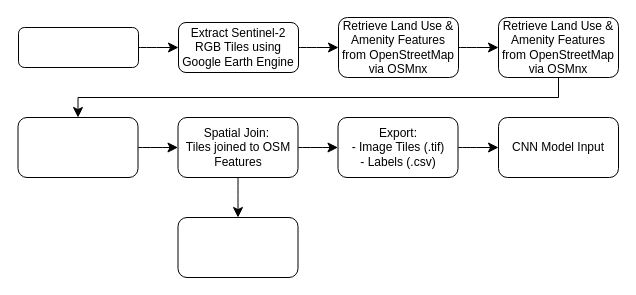
This 636x295 diagram has some shape labels left out. Each missing label, with the centre of its shape:
"Assign Typology & Amenity Labels" goes at (x=237, y=247).
"Convert Tiles to GeoDataFrame" goes at (x=77, y=147).
"Define ROI (Bounding Box)" goes at (x=78, y=47).
